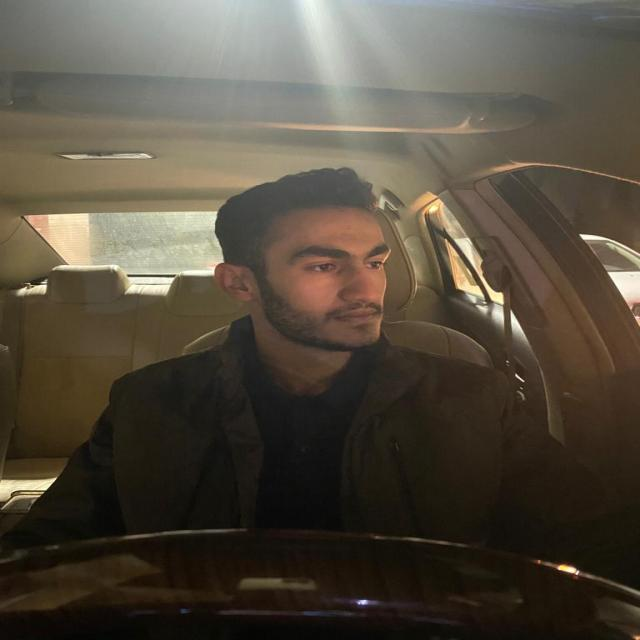person: (206, 160, 417, 366)
